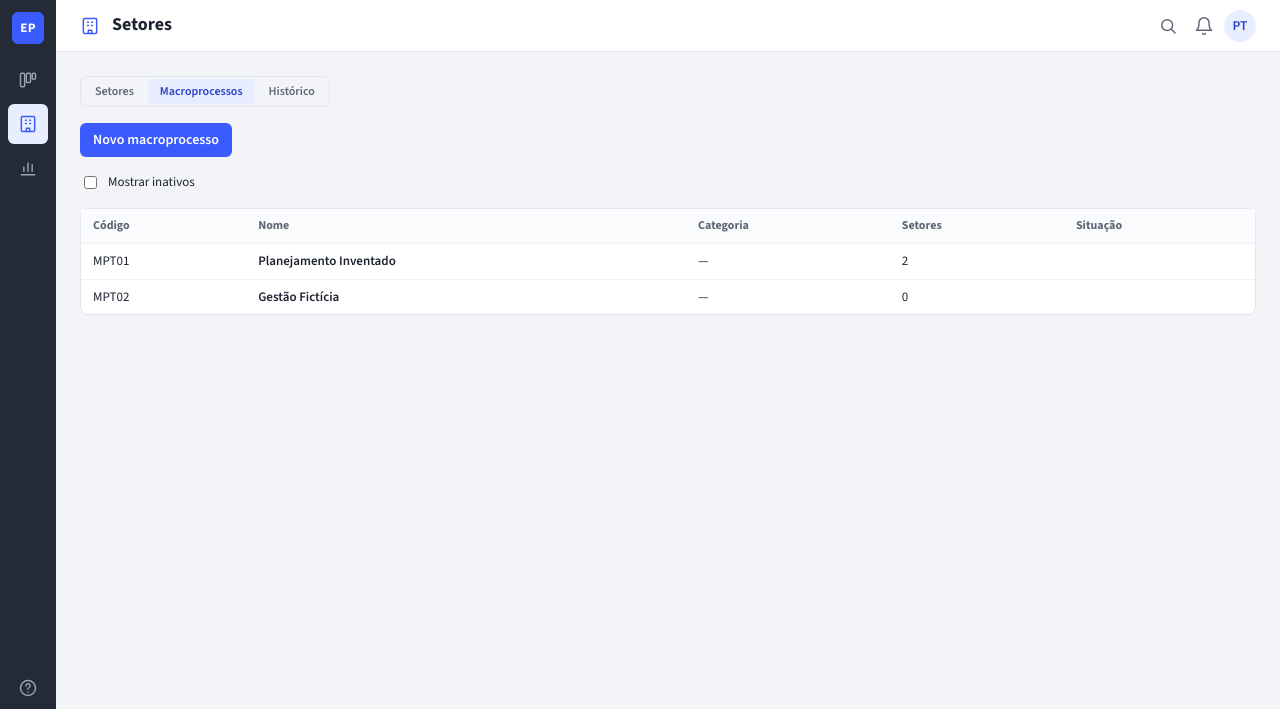
lista sigla, nome, observação editável e [Tirar] de cada setor envolvido, na ordem da sigla
The image size is (1280, 709).
Click the cell "Planejamento Inventado".
click(466, 262)  # box [246, 244, 686, 280]
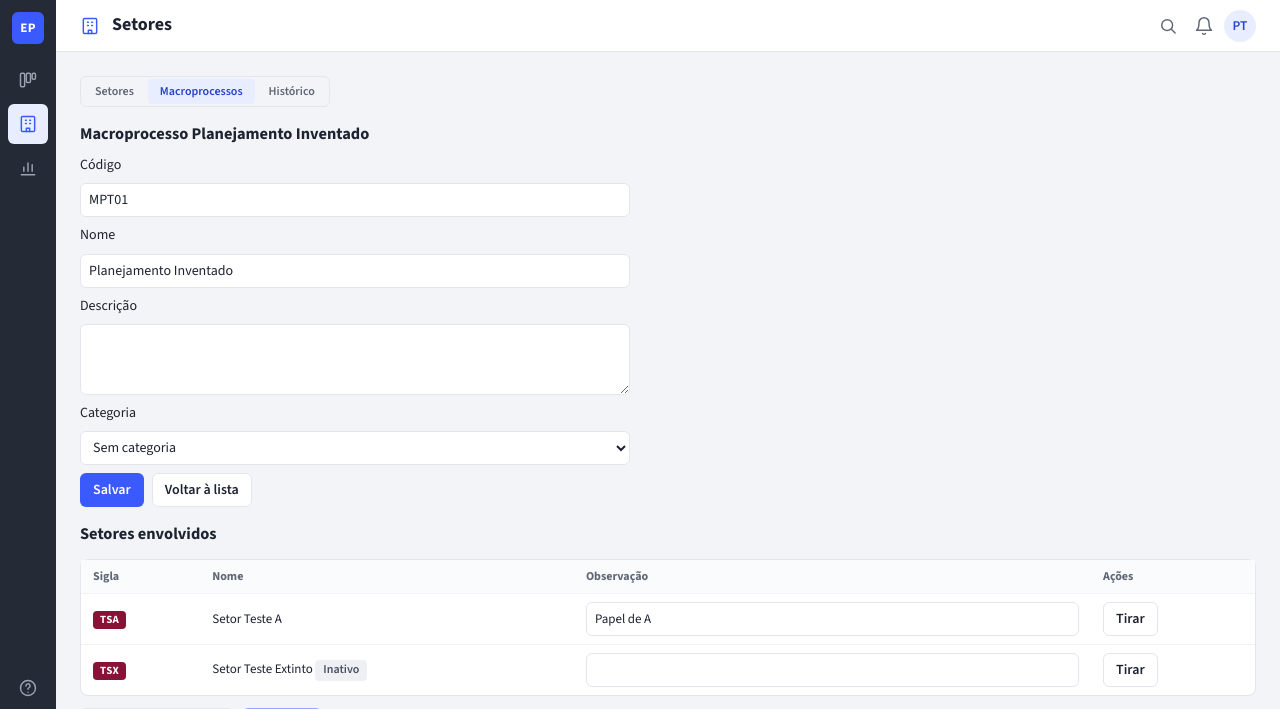
expect the text "Setor Teste A" is shown: met, box [200, 594, 574, 645]
expect the field named "Observação de TSA" holds "Papel de A": met, box [586, 602, 1079, 636]
expect the button with aria-label "Tirar TSA" is shown: met, box [1103, 602, 1158, 636]
